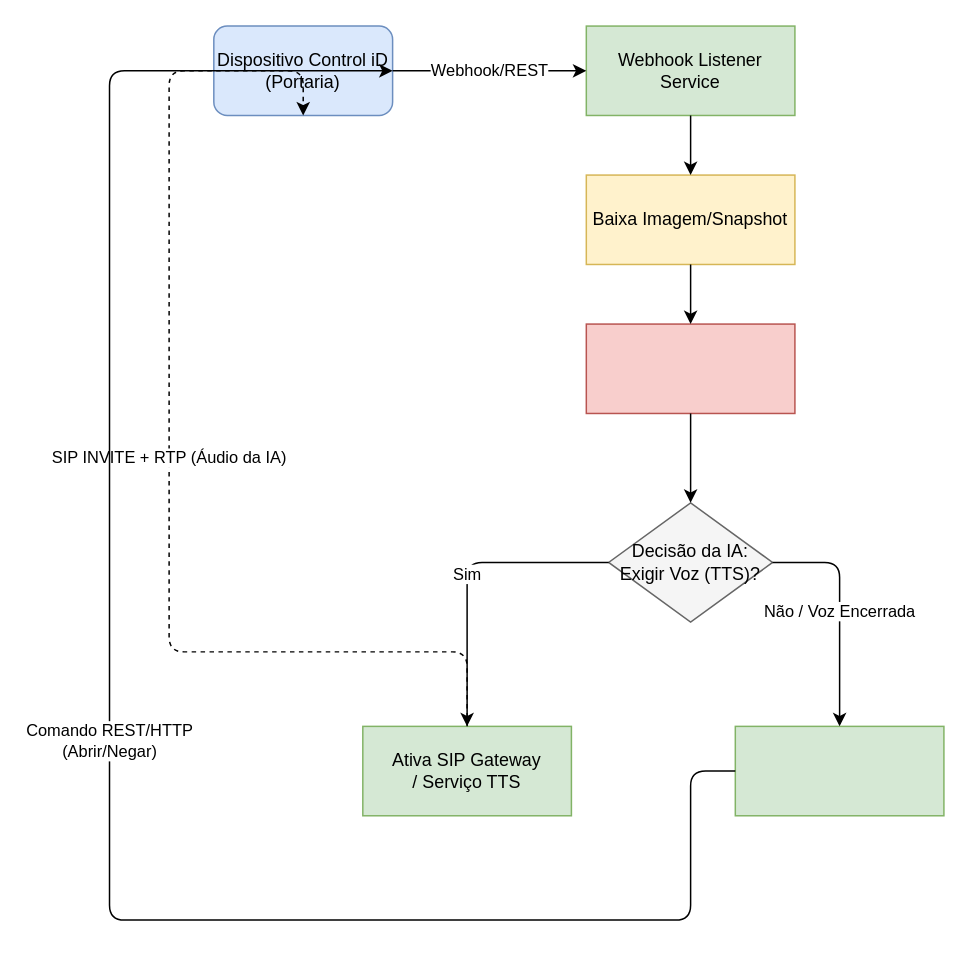
Image size: 970x958. Some labels were removed from this diagram. The centre of each missing label's shape, as x and y in pixels:
AI Processing Service (Motor de IA): [690,368]
Control & Actuator Service: [839,770]
